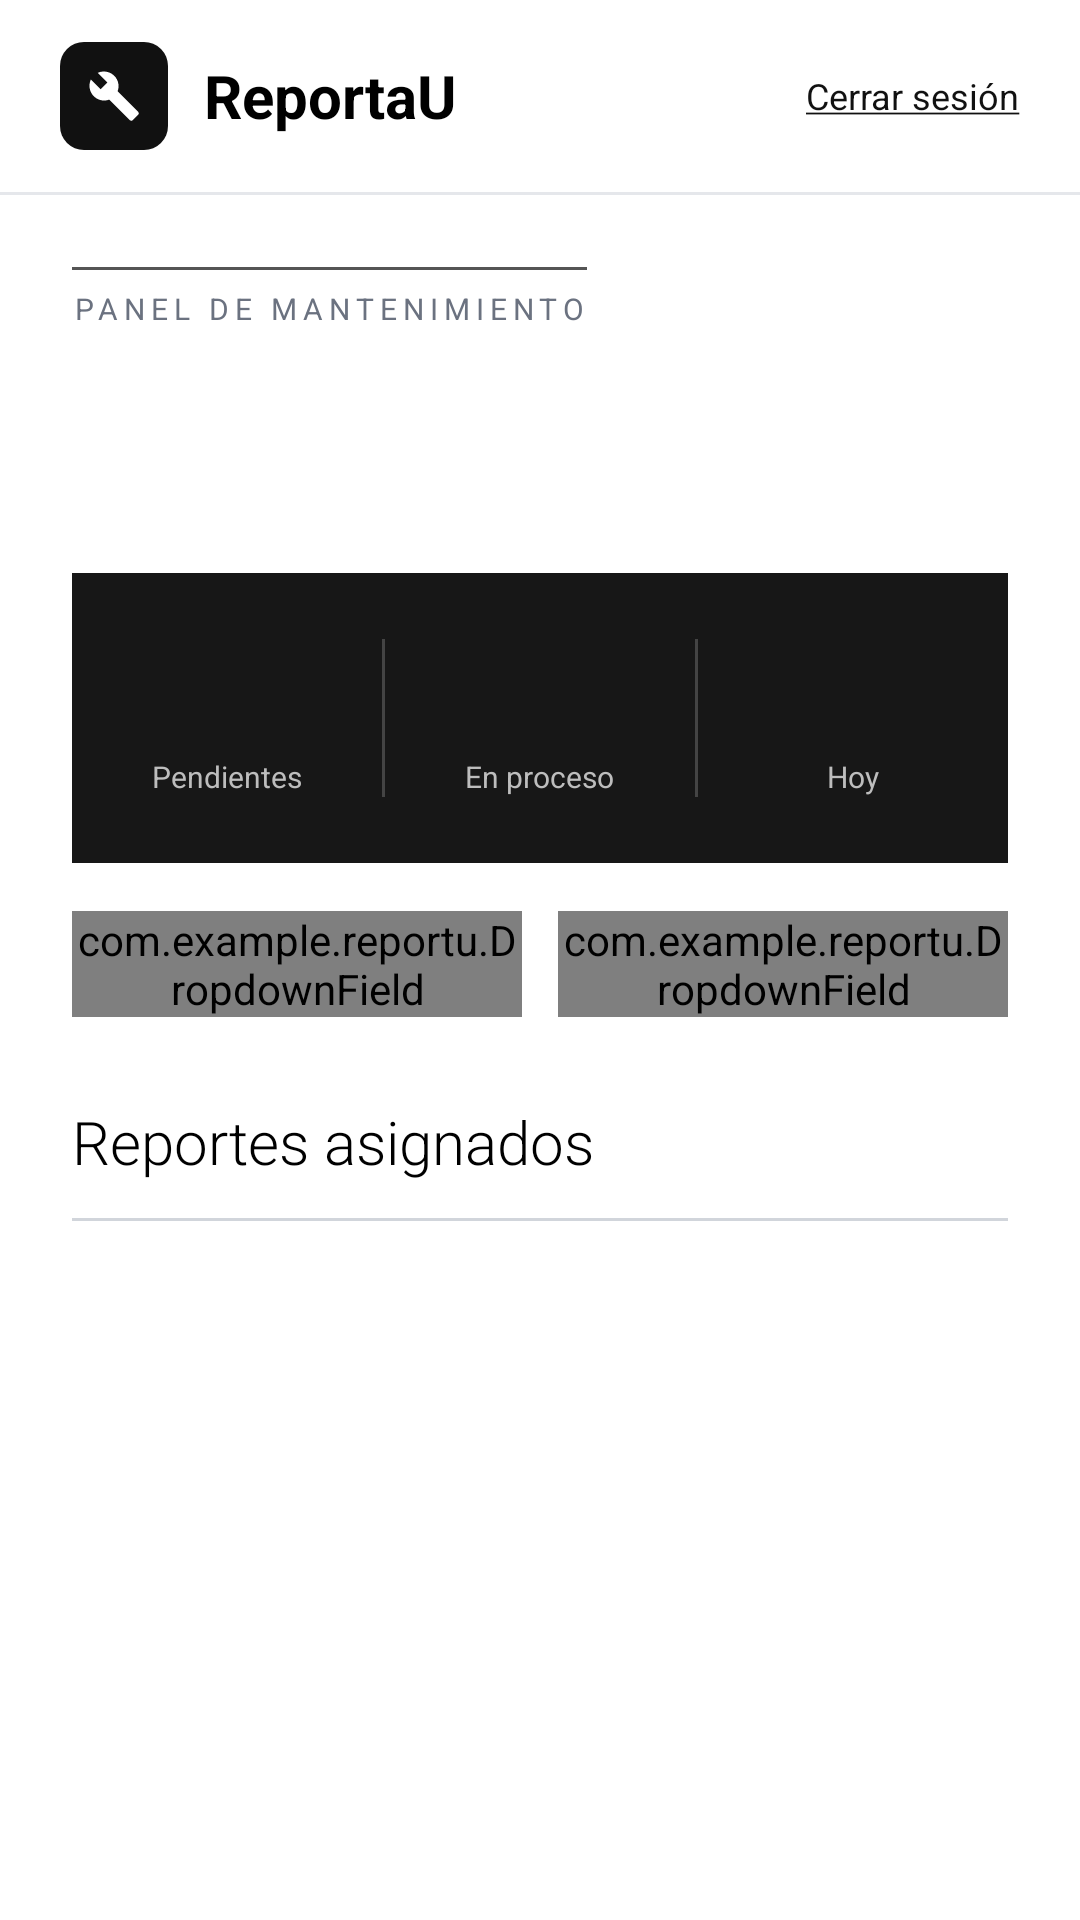

Where to tap for icons on this 1080*1920 app screen, as point (x, y):
wrench: point (114, 96)
